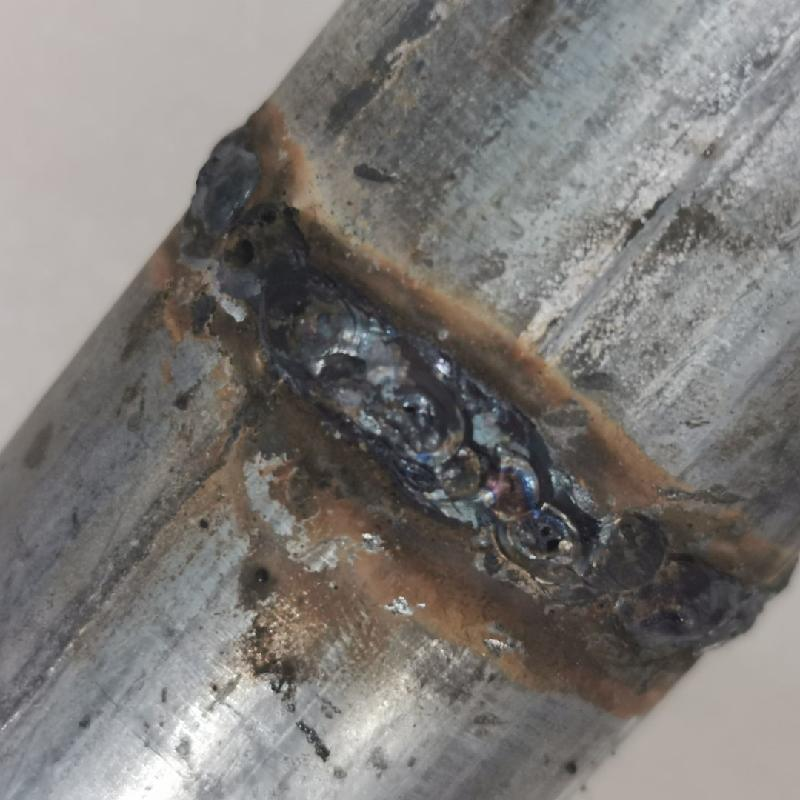Surface_pores: (216, 197, 283, 269), (527, 511, 570, 563)
crater: (406, 385, 587, 584)
wrong_size: (199, 125, 396, 426), (595, 515, 773, 649)
